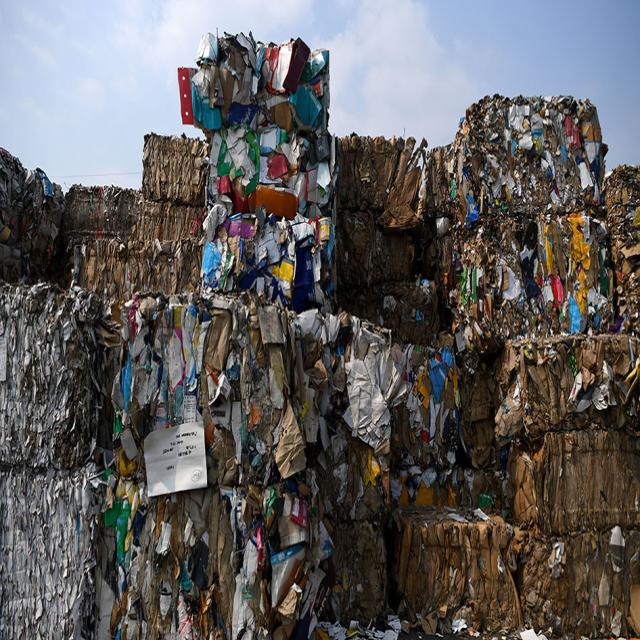Kertas: (137, 0, 578, 640)
